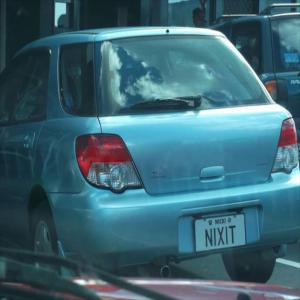Vehicle-registration-plate: (190, 218, 251, 260)
